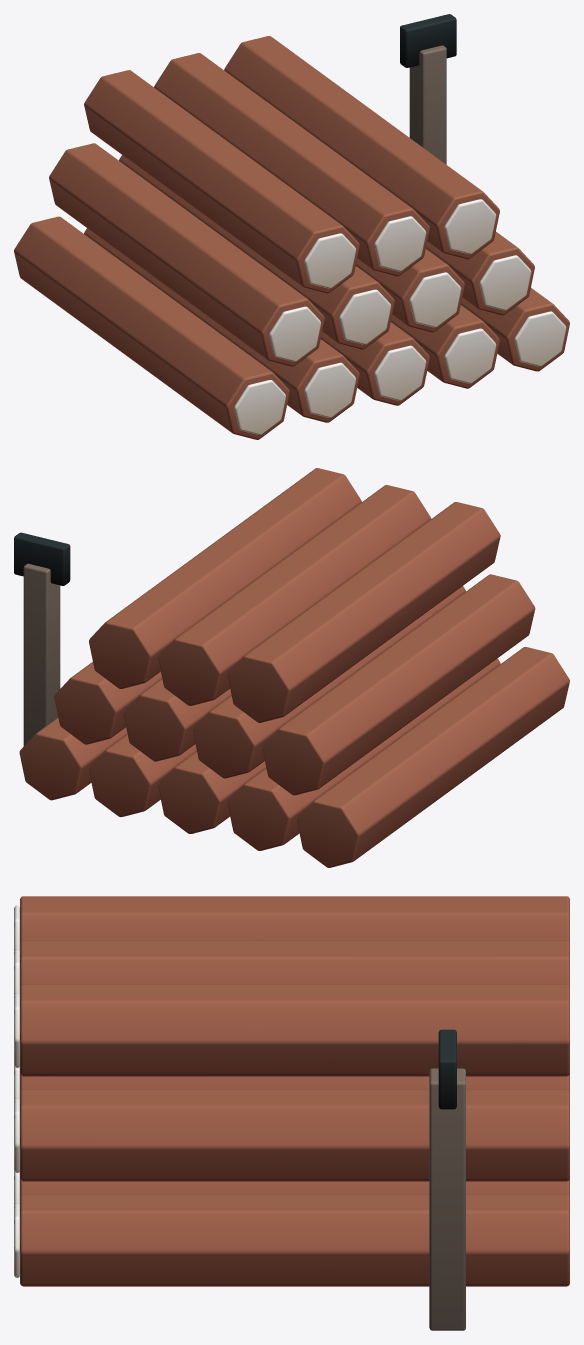
Rendered from woodpile.glb.
3 renders of one model, top to bottom at view 1: azimuth 30°, elevation 25°; view 2: azimuth 150°, elevation 25°; view 3: azimuth 270°, elevation 25°, orthographic. The views are drawn at different scales.
Visible parts, largest first — view 1: woodpile; view 2: woodpile; view 3: woodpile.
Part boxes in pixels (x1,y1,x2,y2): woodpile: (14,14,569,439); woodpile: (14,468,569,867); woodpile: (14,896,569,1330).
Bounding box in the file's own units: 1.91 × 1.01 × 1.82.
Materials: 1 (1 with a texture image).
